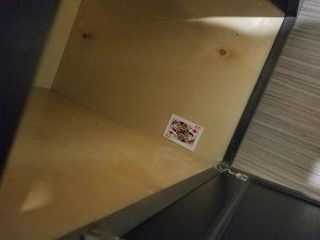QueenOfDiamonds: (163, 113, 204, 152)
